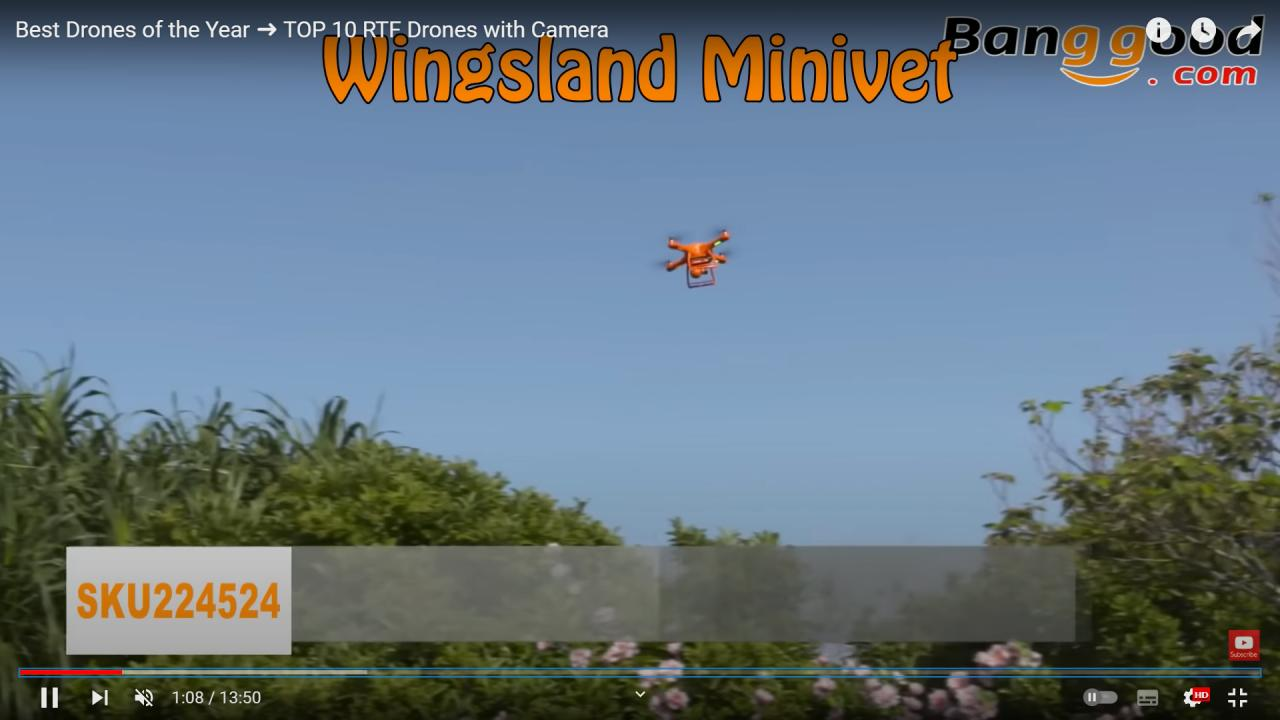Drone: (646, 220, 745, 301)
